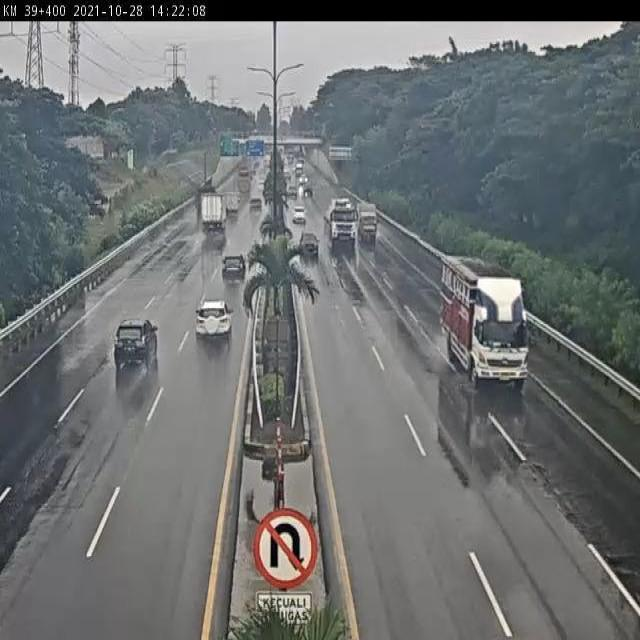ARABA: (111, 316, 165, 372), (190, 296, 236, 347), (220, 252, 247, 284), (299, 228, 320, 256)
KAMYONET: (355, 201, 379, 251)
TIR: (439, 256, 531, 387), (323, 195, 357, 249), (198, 192, 230, 236)
